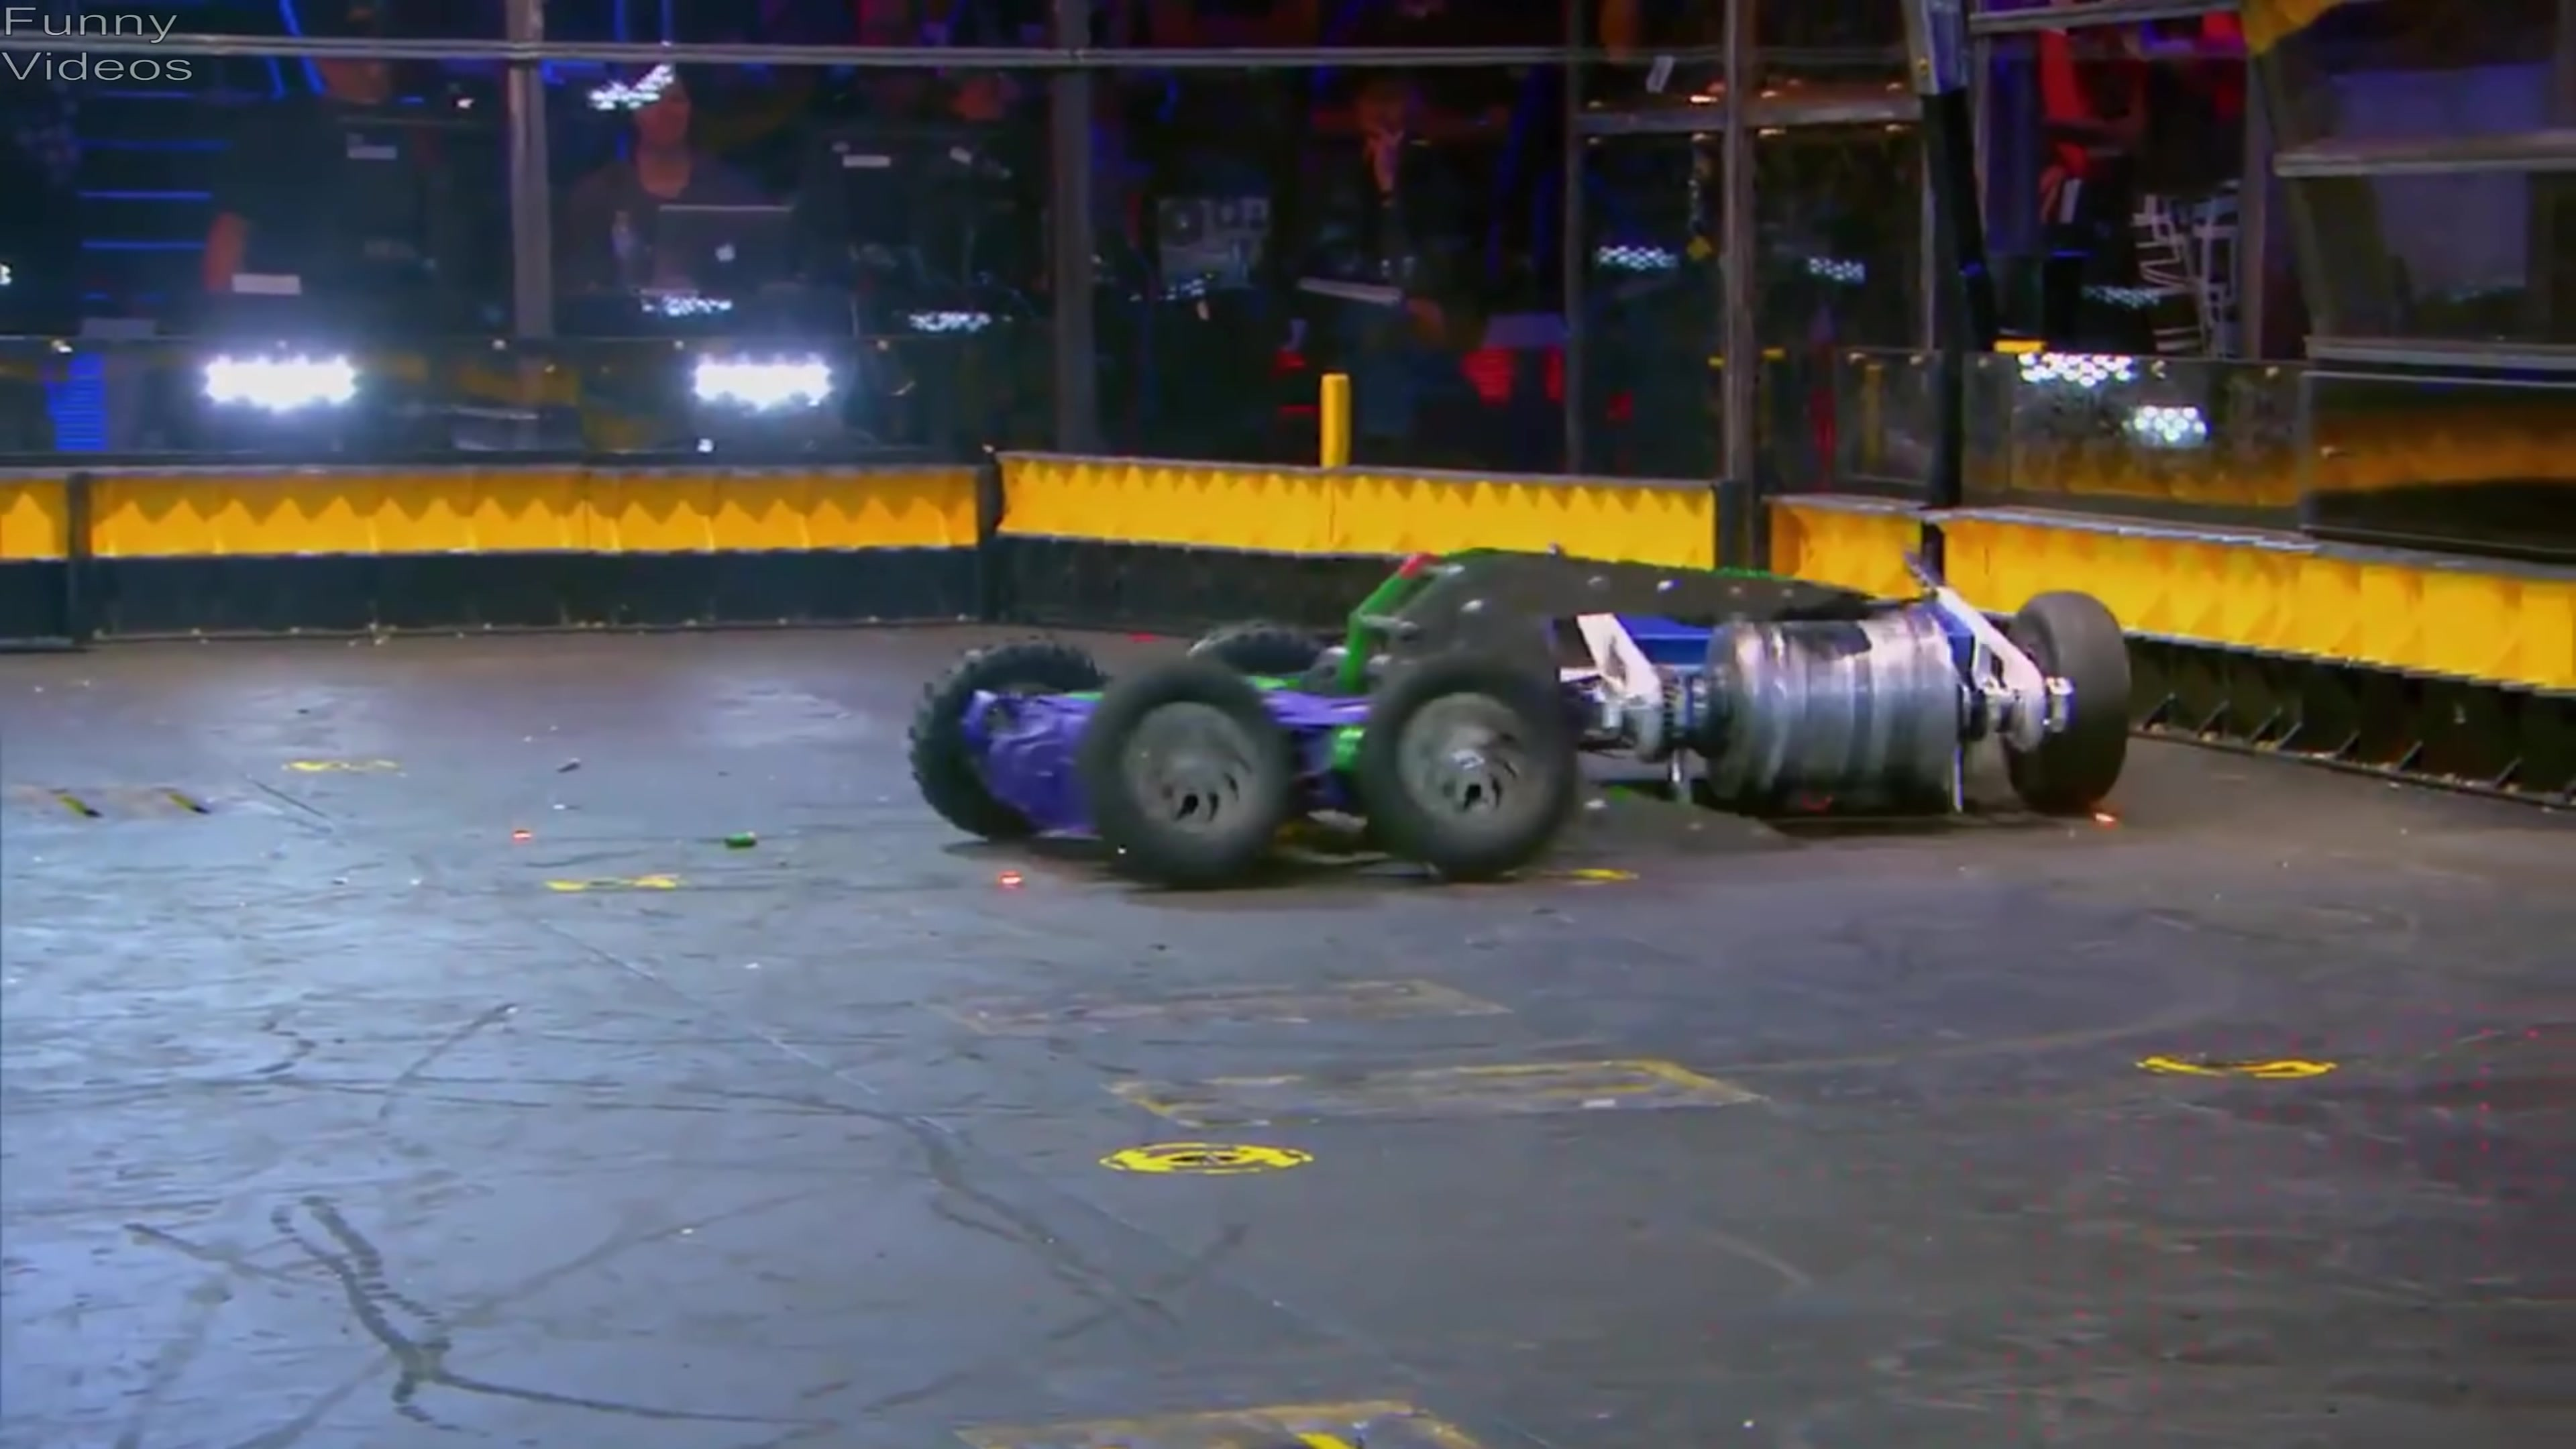combatbot: (1341, 521, 2133, 831), (908, 622, 1578, 890)
